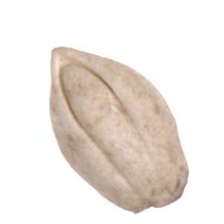L1: (48, 43, 90, 89), (139, 175, 188, 212)
L2: (48, 45, 189, 215)
